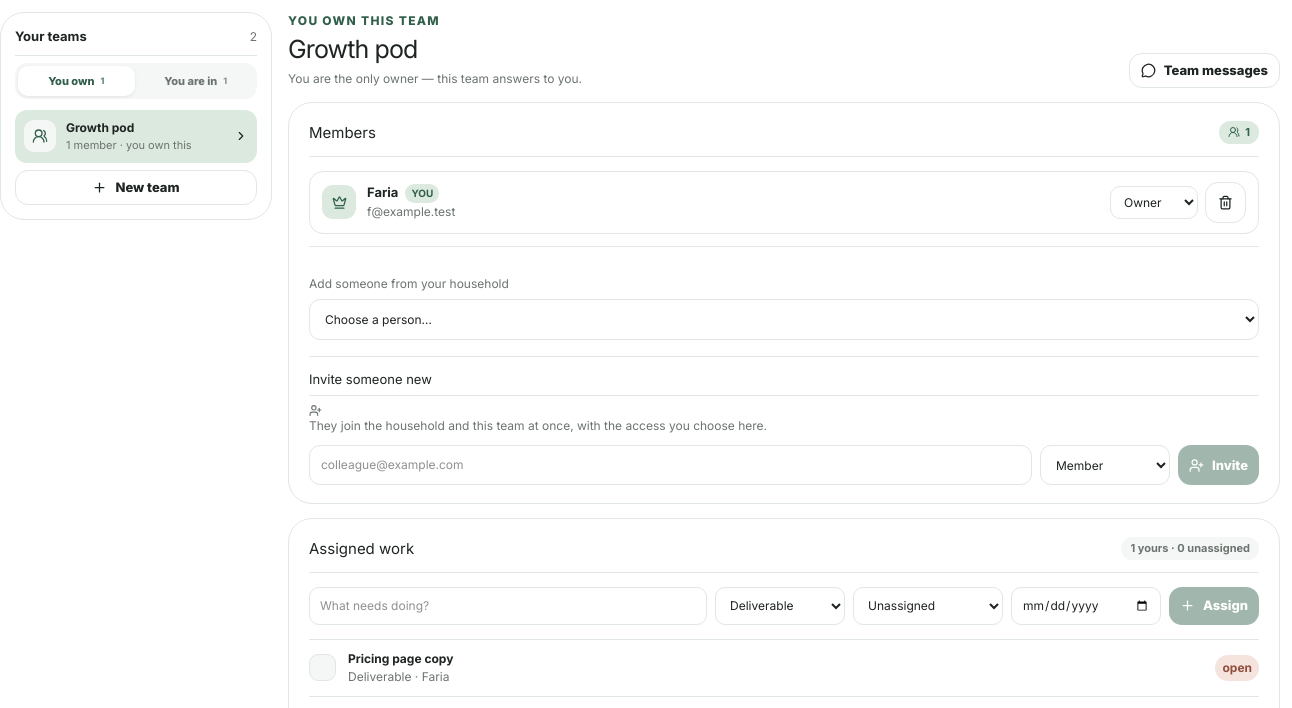
TeamsWorkspace › splits owned from joined only when both exist
Expected: the tab "You own 1" is shown, [18,66,134,96]
Expected: the heading "Growth pod" is shown, [288,34,418,64]
Click the tab "You are in 1" at (196, 81), box [138,66,254,96]
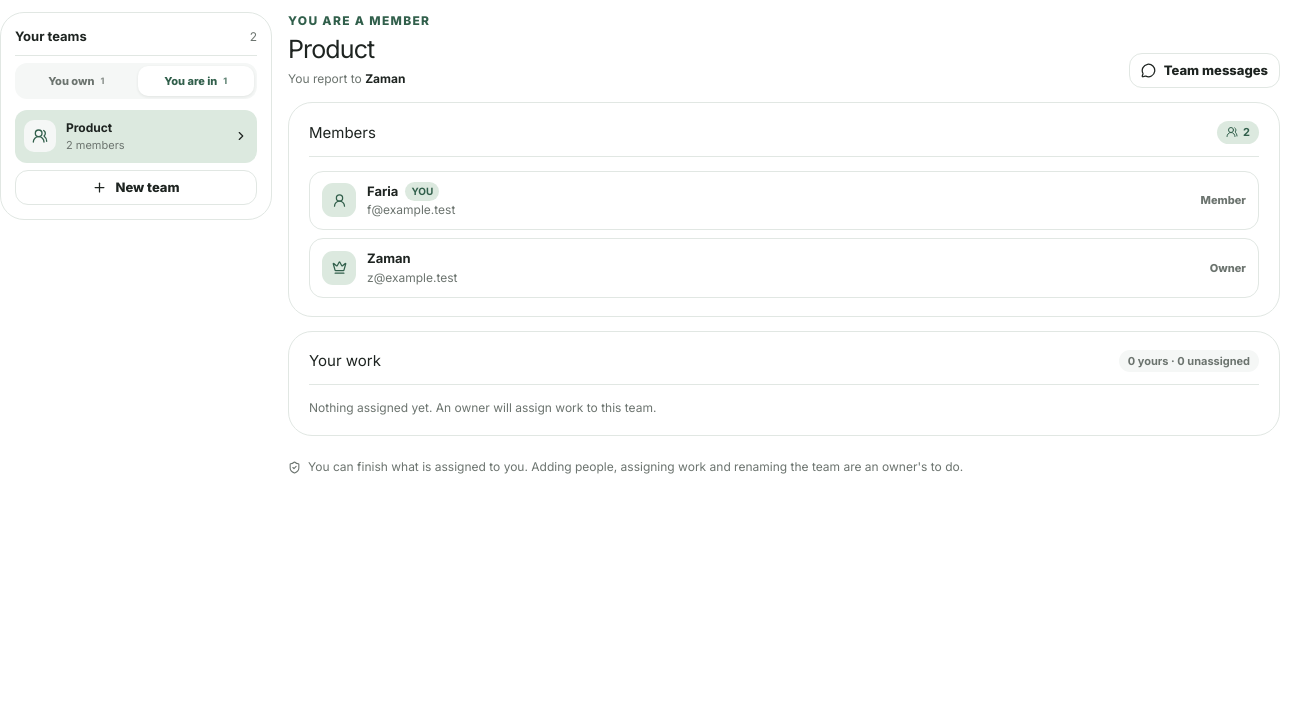
Now the heading "Product" is shown, box [288,34,374,64]
